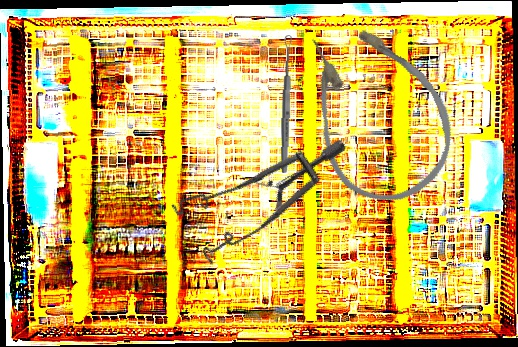Cannula: (280, 0, 474, 221)
Speculum: (154, 80, 350, 295)
Surgical Spoon: (279, 34, 294, 174)
